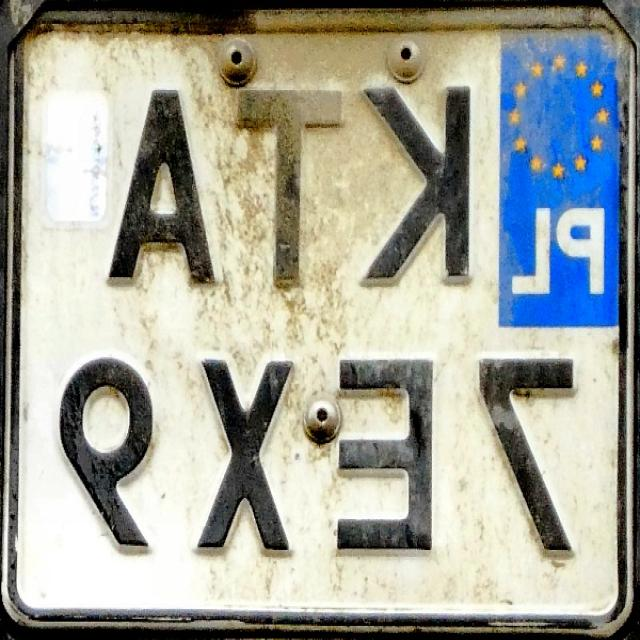pl_license_plate: (20, 24, 621, 608)
